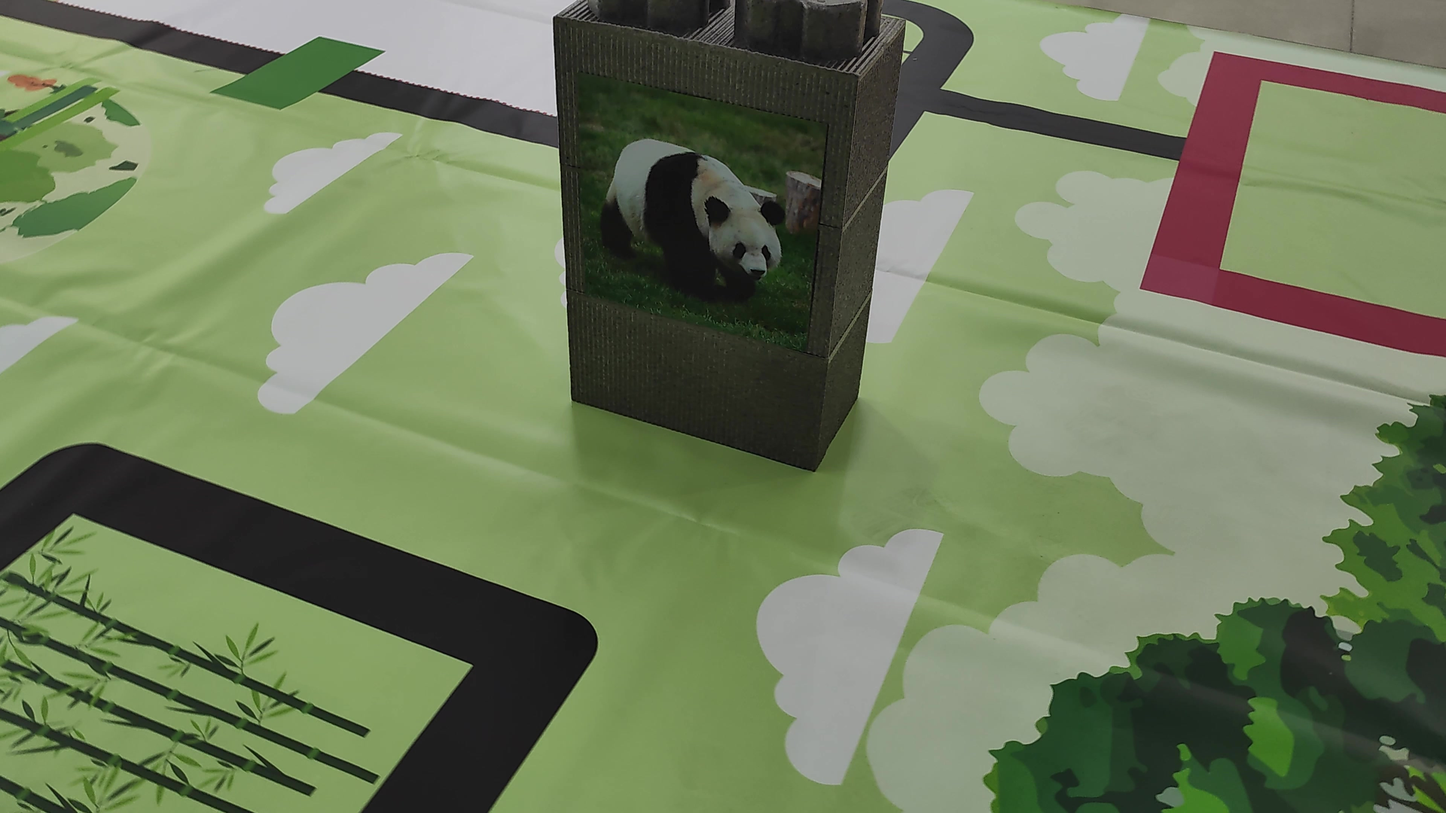panda: (576, 113, 806, 308)
